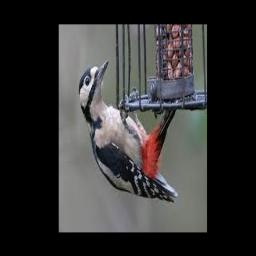Woodpecker: (78, 59, 178, 202)
